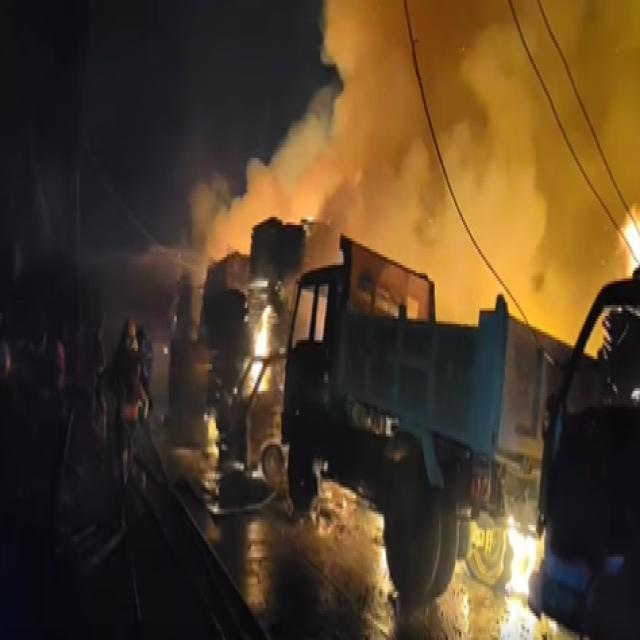Fire: (505, 519, 548, 607), (248, 298, 271, 388), (622, 206, 640, 280)
Smoke: (211, 0, 640, 346)
